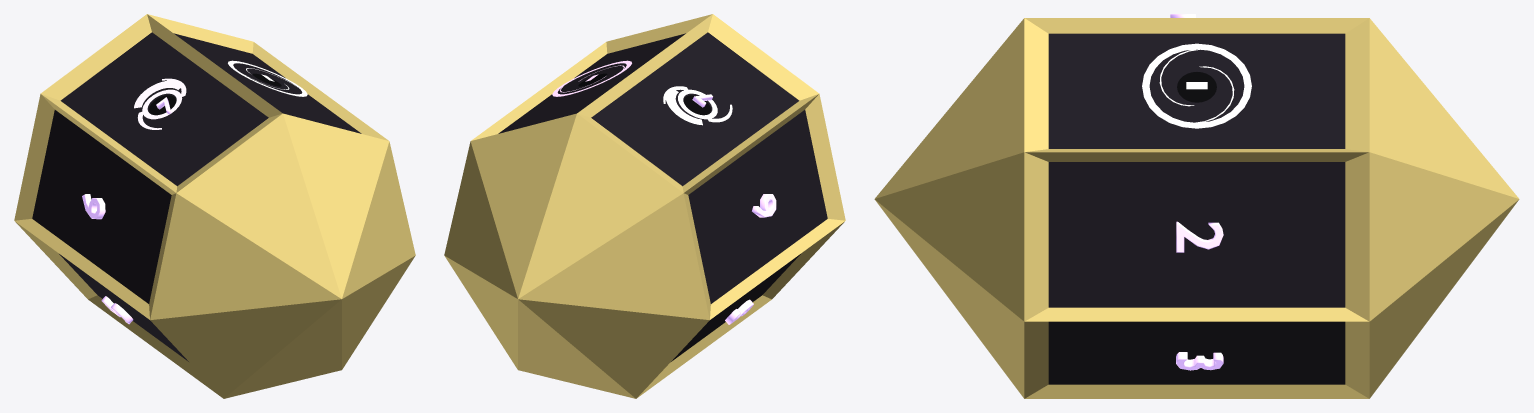
File: d7_black_hole_gold.glb
The picture shows the model from 3 angles, left to right: view 1: azimuth 30°, elevation 25°; view 2: azimuth 150°, elevation 25°; view 3: azimuth 270°, elevation 25°; orthographic projection. The views are drawn at different scales.
Parts seen in each view (by area): view 1: D7_BlackHole_Gold; view 2: D7_BlackHole_Gold; view 3: D7_BlackHole_Gold.
Part boxes in pixels (x1,y1,x2,y2): D7_BlackHole_Gold: (14,14,415,398); D7_BlackHole_Gold: (444,14,845,398); D7_BlackHole_Gold: (874,14,1519,398).
Bounding box in the file's own units: 4.29 × 4.24 × 7.1.
